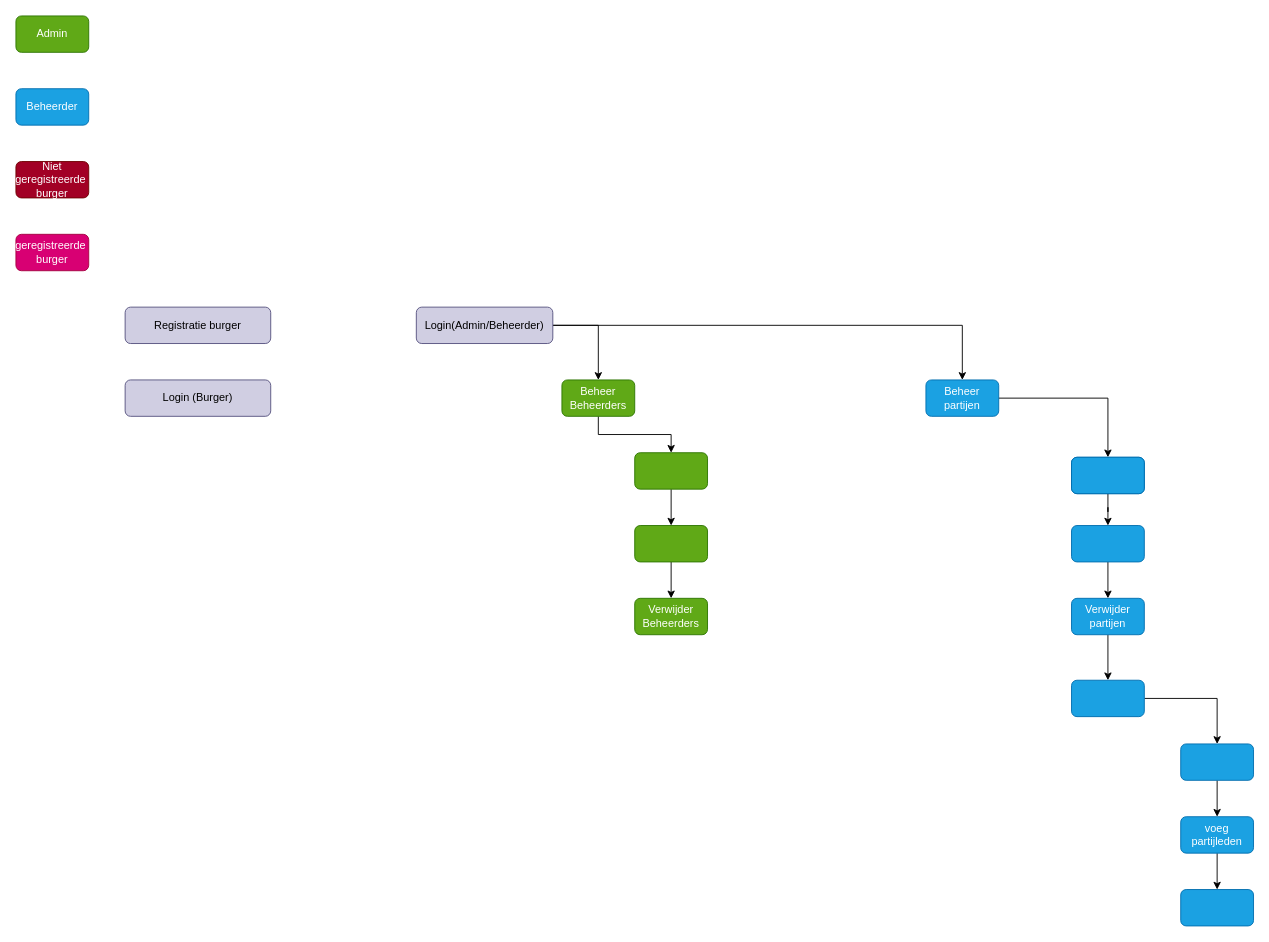
Some shapes in this 1269 by 942 pixel diagram are drawn without their labels. Each missing label, with the box of its shape:
Beheer partij leden: (1071, 679, 1144, 717)
Bewerk Beheerders: (634, 452, 708, 489)
Bewerk partijen: (1071, 456, 1144, 494)
Bewerk partijleden: (1180, 743, 1254, 780)
Verwijder partijleden: (1180, 889, 1254, 926)
Voeg Beheerders: (634, 525, 708, 562)
Voeg partijen: (1071, 525, 1144, 562)
